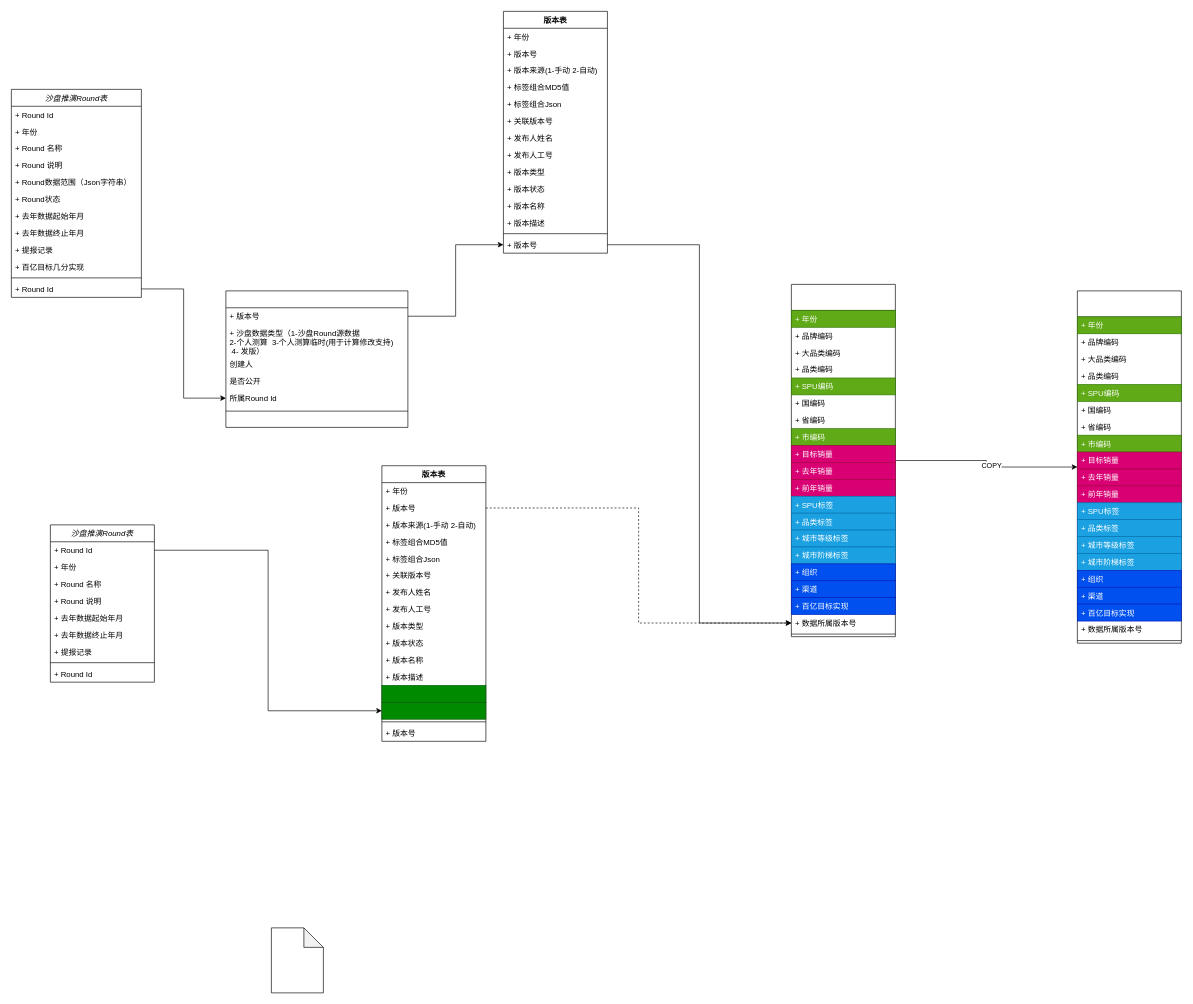
Image size: 1193x1004. Some labels were removed from this diagram. Here are the shapes that lost their labels. From the top down, the box of each, then its label:
(225, 290, 408, 427): 沙盘推演版本管理表
(791, 284, 895, 637): 沙盘推演数据明细表（Mysql）
(1077, 290, 1181, 643): 沙盘推演数据明细表 （CK）
(381, 685, 486, 702): + 是否公开
(381, 702, 486, 719): + 所属业务id（S25仅支持沙盘推演）
